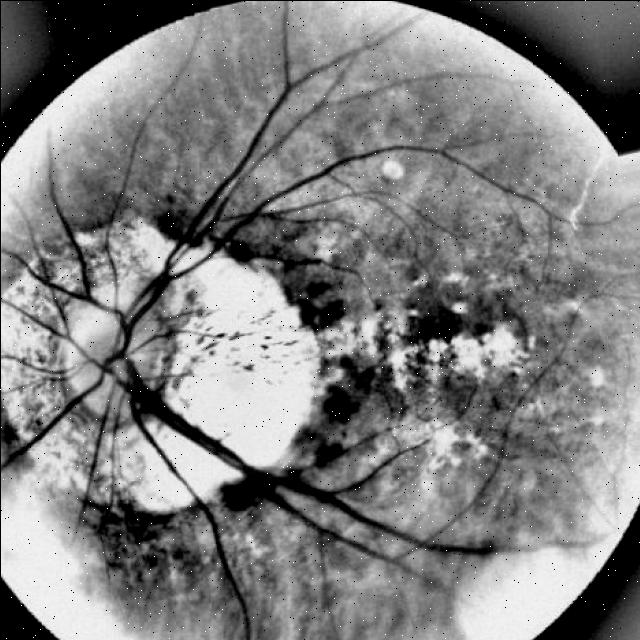Macula: (403, 271, 510, 343)
Nerves: (113, 138, 524, 355), (113, 348, 432, 543)
Optic Disk: (0, 218, 248, 501)
